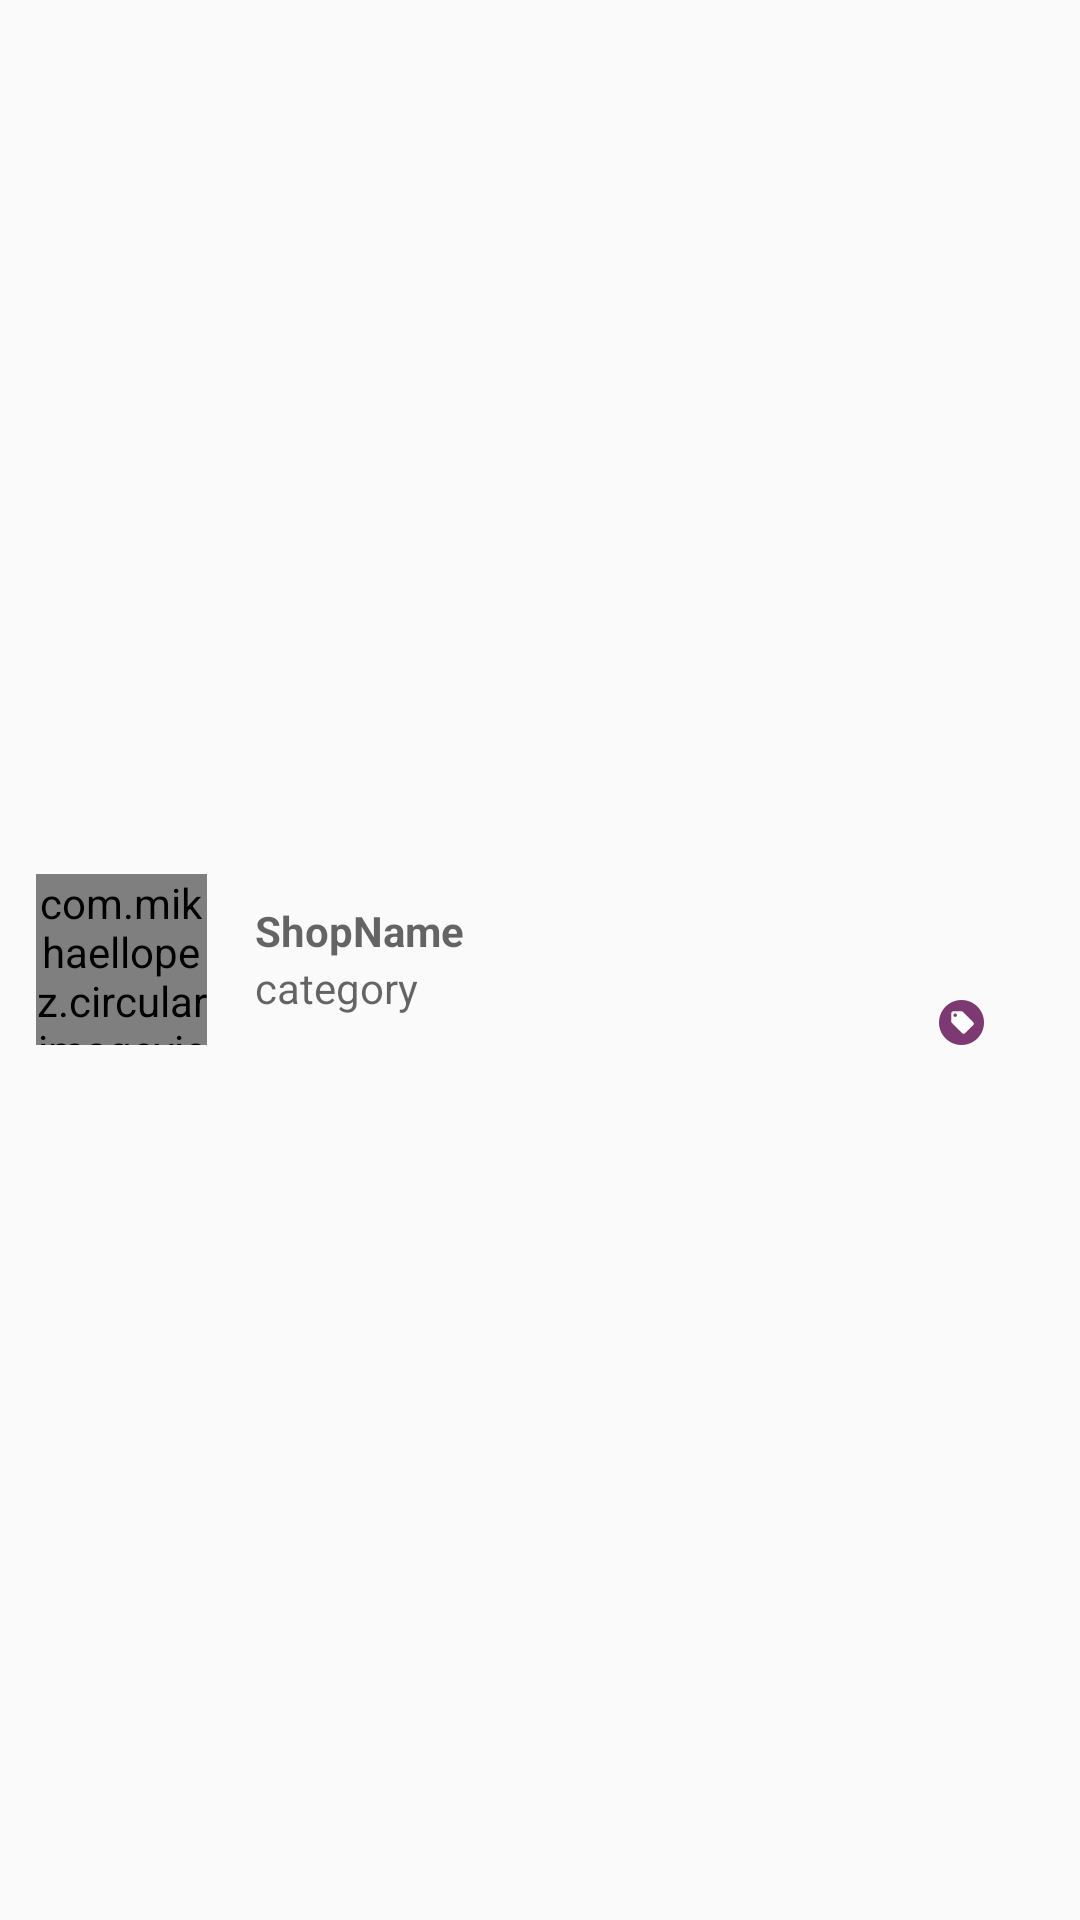

Icon bounding boxes for this 1080×1920 phone screenshot, format (x1, y1, x2, y2):
offers unactive: (939, 1000, 984, 1045)
